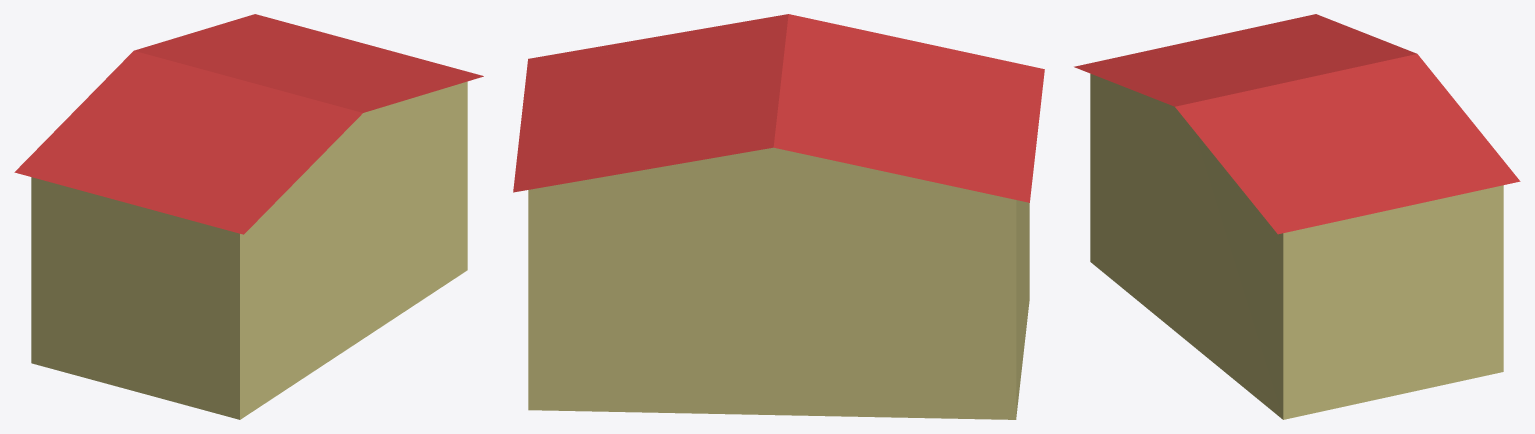
3 views of the same model, side by side, from view 1: azimuth 30°, elevation 25°; view 2: azimuth 150°, elevation 25°; view 3: azimuth 270°, elevation 25° (orthographic). The views are drawn at different scales.
Bounding box in the file's own units: 31.47 × 26.98 × 15.7.
